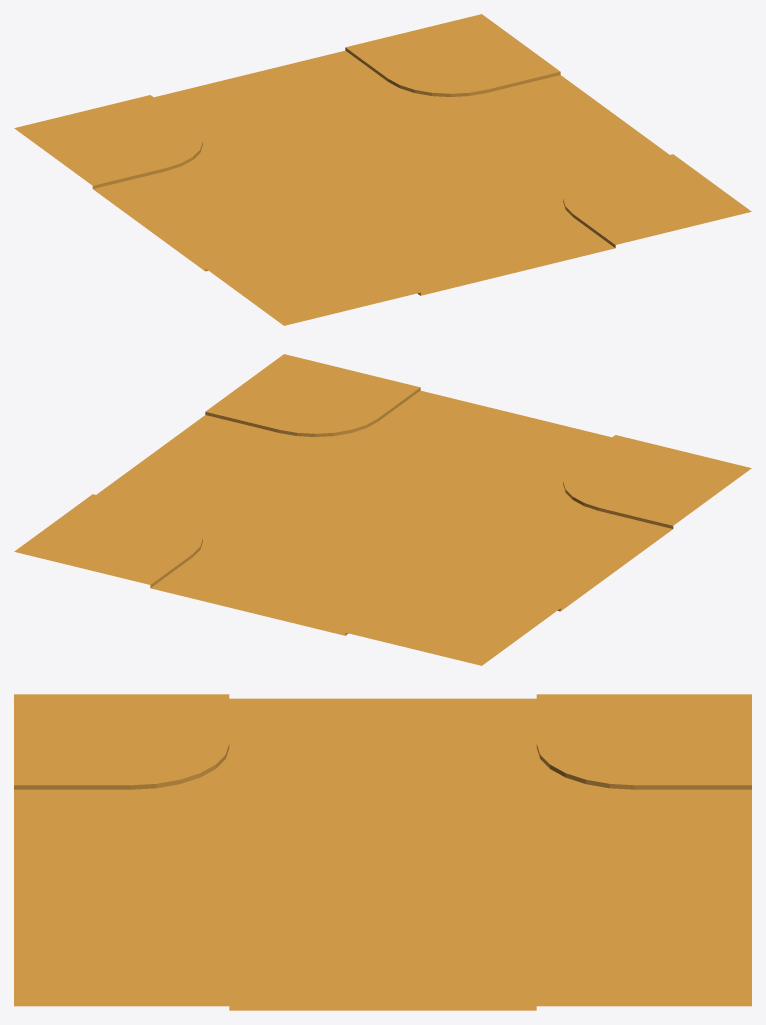
Rendered from Bodenlos.fbx.
The picture shows the model from 3 angles, top to bottom: view 1: azimuth 30°, elevation 25°; view 2: azimuth 150°, elevation 25°; view 3: azimuth 270°, elevation 25°; orthographic projection. The views are drawn at different scales.
Parts seen in each view (by area): view 1: tile-mainroad-intersection; view 2: tile-mainroad-intersection; view 3: tile-mainroad-intersection.
Boxes of the visible parts, left/top/right/bottom form: tile-mainroad-intersection: left=14, top=14, right=751, bottom=325; tile-mainroad-intersection: left=14, top=354, right=751, bottom=665; tile-mainroad-intersection: left=14, top=694, right=751, bottom=1010.
Bounding box in the file's own units: 3000 × 20 × 3000.
